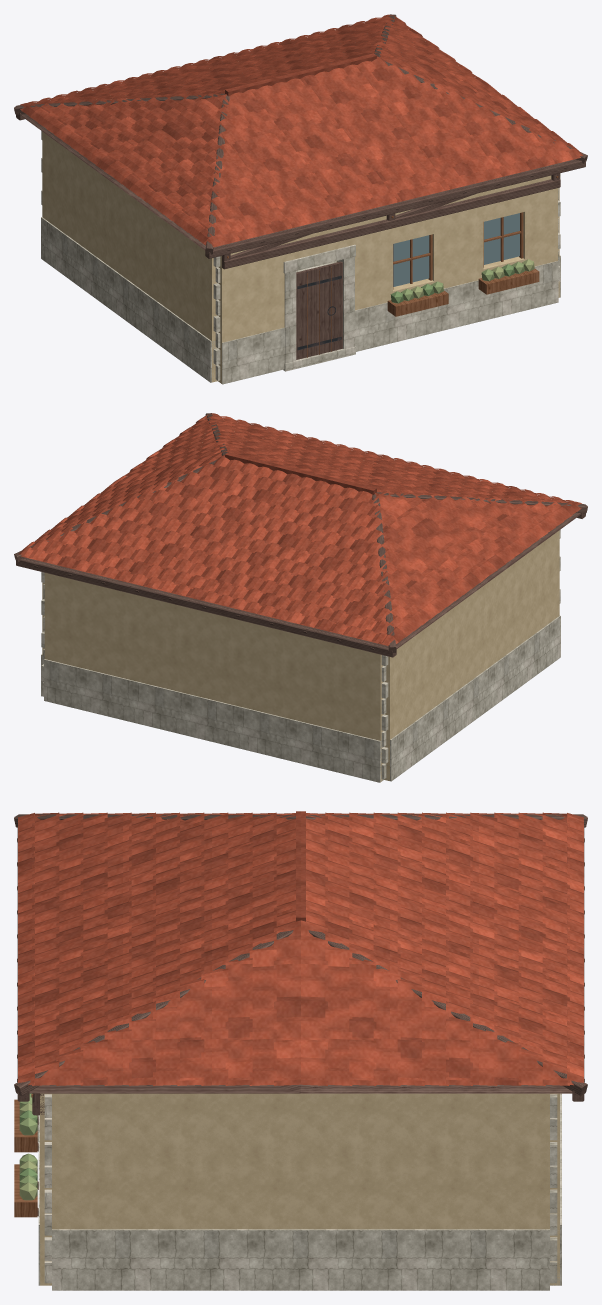
Rendered from B07_vivienda.glb.
The picture shows the model from 3 angles, top to bottom: view 1: azimuth 30°, elevation 25°; view 2: azimuth 150°, elevation 25°; view 3: azimuth 270°, elevation 25°; orthographic projection. The views are drawn at different scales.
Parts seen in each view (by area): view 1: AUR034_B07_clay_tiles, AUR034_B07_lower_masonry, AUR034_B07_projecting_stone_plinth, AUR034_B07_fascia-1, AUR034_B07_entry_leaf0, AUR034_B07_sill, AUR034_B07_window0_glazing, AUR034_B07_window1_glazing, AUR034_B07_roof_sheathing, AUR034_B07_entry_pier-1, AUR034_B07_ridge, AUR034_B07_entry_pier1 (+7 smaller); view 2: AUR034_B07_clay_tiles, AUR034_B07_lower_masonry, AUR034_B07_projecting_stone_plinth, AUR034_B07_fascia1, AUR034_B07_dressed_corner_stones, AUR034_B07_roof_sheathing, AUR034_B07_ridge, AUR034_B07_hip_rafter_-11, AUR034_B07_hip_rafter_-1-1; view 3: AUR034_B07_clay_tiles, AUR034_B07_lower_masonry, AUR034_B07_projecting_stone_plinth, AUR034_B07_roof_sheathing, AUR034_B07_dressed_corner_stones, AUR034_B07_ridge, AUR034_B07_hip_rafter_1-1, AUR034_B07_hip_rafter_11, AUR034_B07_hip_rafter_-1-1, AUR034_B07_hip_rafter_-11, AUR034_B07_flower_box1, AUR034_B07_flower_box0.
Boxes of the visible parts, bbox=[...] form: AUR034_B07_clay_tiles: bbox=[20, 14, 582, 247]; AUR034_B07_lower_masonry: bbox=[42, 98, 559, 383]; AUR034_B07_projecting_stone_plinth: bbox=[41, 217, 560, 384]; AUR034_B07_fascia-1: bbox=[205, 159, 585, 258]; AUR034_B07_entry_leaf0: bbox=[296, 261, 342, 359]; AUR034_B07_sill: bbox=[222, 179, 560, 269]; AUR034_B07_window0_glazing: bbox=[393, 235, 429, 286]; AUR034_B07_window1_glazing: bbox=[484, 213, 519, 264]; AUR034_B07_roof_sheathing: bbox=[21, 33, 445, 250]; AUR034_B07_entry_pier-1: bbox=[284, 271, 296, 363]; AUR034_B07_ridge: bbox=[225, 53, 376, 96]; AUR034_B07_entry_pier1: bbox=[337, 256, 354, 349]; AUR034_B07_clay_tiles: bbox=[18, 413, 581, 646]; AUR034_B07_lower_masonry: bbox=[42, 441, 559, 781]; AUR034_B07_projecting_stone_plinth: bbox=[41, 616, 560, 782]; AUR034_B07_fascia1: bbox=[16, 558, 396, 657]; AUR034_B07_dressed_corner_stones: bbox=[41, 529, 560, 779]; AUR034_B07_roof_sheathing: bbox=[156, 447, 581, 648]; AUR034_B07_ridge: bbox=[225, 452, 376, 494]; AUR034_B07_hip_rafter_-11: bbox=[372, 494, 396, 653]; AUR034_B07_hip_rafter_-1-1: bbox=[376, 492, 587, 513]; AUR034_B07_clay_tiles: bbox=[18, 812, 583, 1085]; AUR034_B07_lower_masonry: bbox=[40, 1093, 559, 1285]; AUR034_B07_projecting_stone_plinth: bbox=[38, 1093, 561, 1290]; AUR034_B07_roof_sheathing: bbox=[29, 1084, 572, 1093]; AUR034_B07_dressed_corner_stones: bbox=[44, 1094, 557, 1283]; AUR034_B07_ridge: bbox=[296, 811, 305, 921]; AUR034_B07_hip_rafter_1-1: bbox=[14, 930, 293, 1096]; AUR034_B07_hip_rafter_11: bbox=[308, 930, 587, 1096]; AUR034_B07_hip_rafter_-1-1: bbox=[14, 814, 295, 827]; AUR034_B07_hip_rafter_-11: bbox=[306, 814, 587, 827]; AUR034_B07_flower_box1: bbox=[14, 1164, 37, 1217]; AUR034_B07_flower_box0: bbox=[14, 1099, 37, 1152].
Size of the model in its own units: 9.1 by 4.71 by 8.07.
12 materials, 8 textured.
